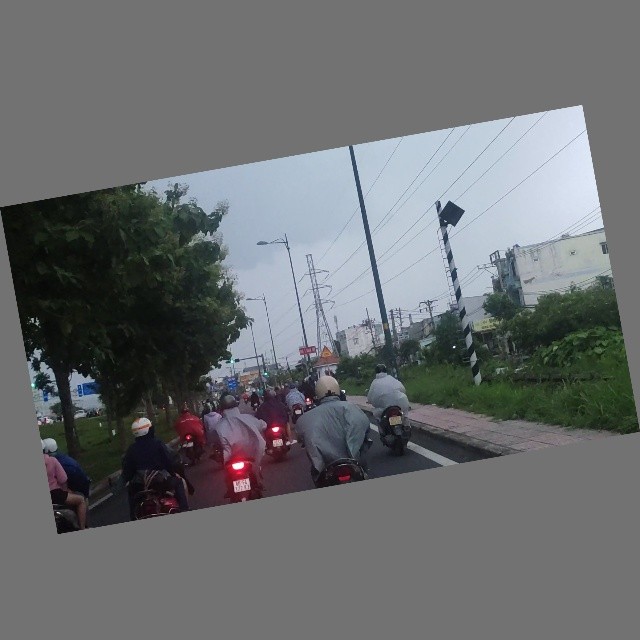W.210: (318, 345, 333, 360)
